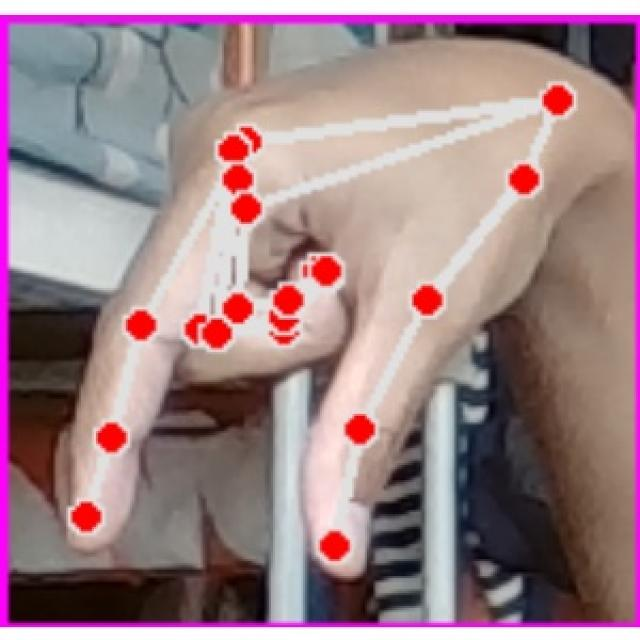Q: (54, 38, 609, 587)
